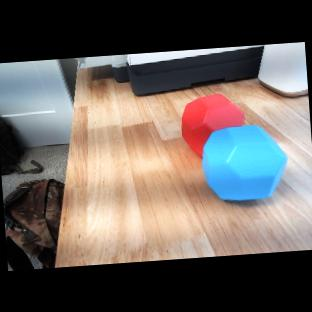V5_BLUE: (201, 121, 291, 203)
V5_RED: (179, 93, 246, 148)
pieces: (178, 90, 291, 206)
